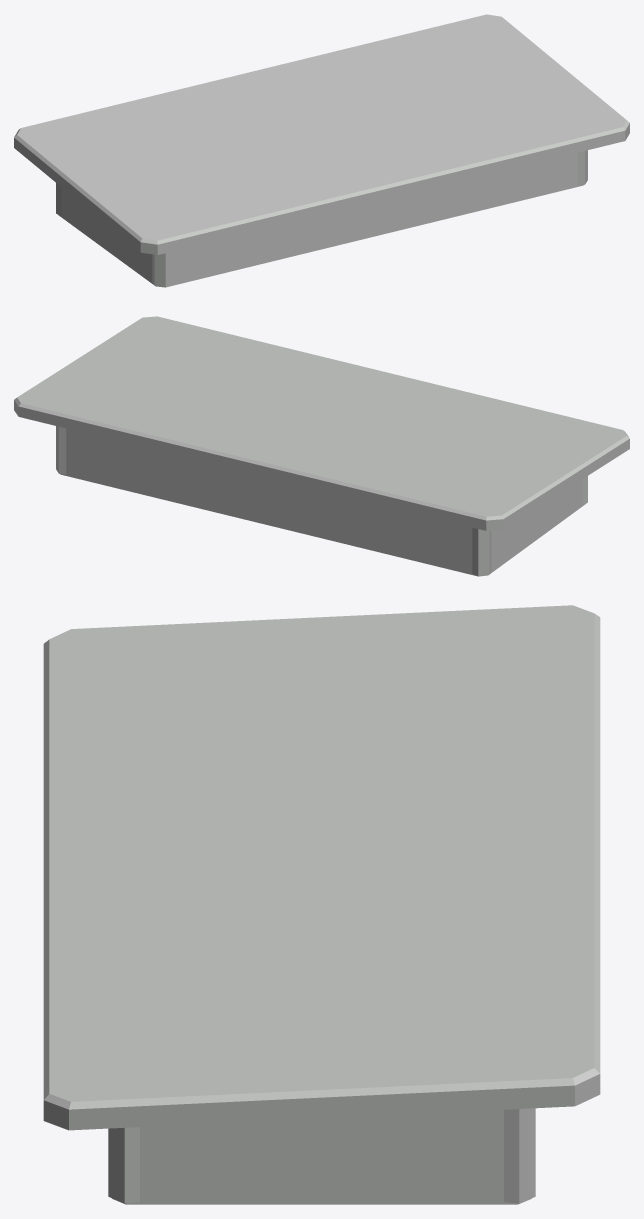
File: SM_Cart_Roof_01.fbx
The picture shows the model from 3 angles, top to bottom: view 1: azimuth 30°, elevation 25°; view 2: azimuth 150°, elevation 25°; view 3: azimuth 270°, elevation 25°; orthographic projection. The views are drawn at different scales.
Parts seen in each view (by area): view 1: SM_Cart_Roof_01; view 2: SM_Cart_Roof_01; view 3: SM_Cart_Roof_01.
Part boxes in pixels (box(x1,y1,x2,y2)): SM_Cart_Roof_01: box(14, 14, 629, 287); SM_Cart_Roof_01: box(14, 316, 629, 576); SM_Cart_Roof_01: box(43, 605, 600, 1204).
Size of the model in its own units: 1.58 by 0.237 by 0.776.
1 material, 1 textured.
